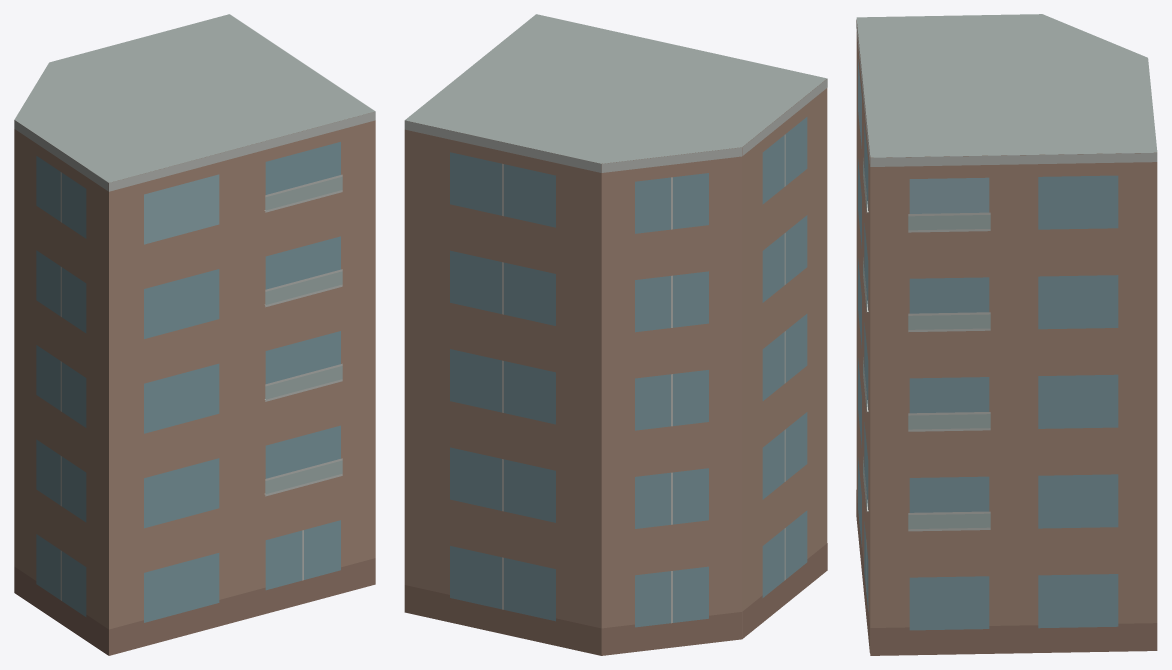
The model's file is survey-upis-32615585.glb.
The picture shows the model from 3 angles, left to right: view 1: azimuth 30°, elevation 25°; view 2: azimuth 150°, elevation 25°; view 3: azimuth 270°, elevation 25°; orthographic projection. The views are drawn at different scales.
Visible parts, largest first — view 1: survey-upis-32615585.tmp; view 2: survey-upis-32615585.tmp; view 3: survey-upis-32615585.tmp.
Part boxes in pixels (box(x1,y1,x2,y2)): survey-upis-32615585.tmp: box(14, 14, 375, 655); survey-upis-32615585.tmp: box(404, 14, 827, 655); survey-upis-32615585.tmp: box(856, 14, 1157, 655).
Size of the model in its own units: 8.05 by 12.99 by 7.12.
